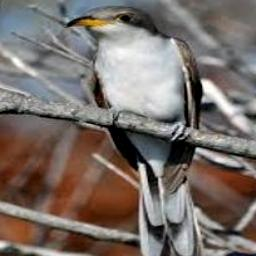Cuckoo: (67, 6, 205, 256)
